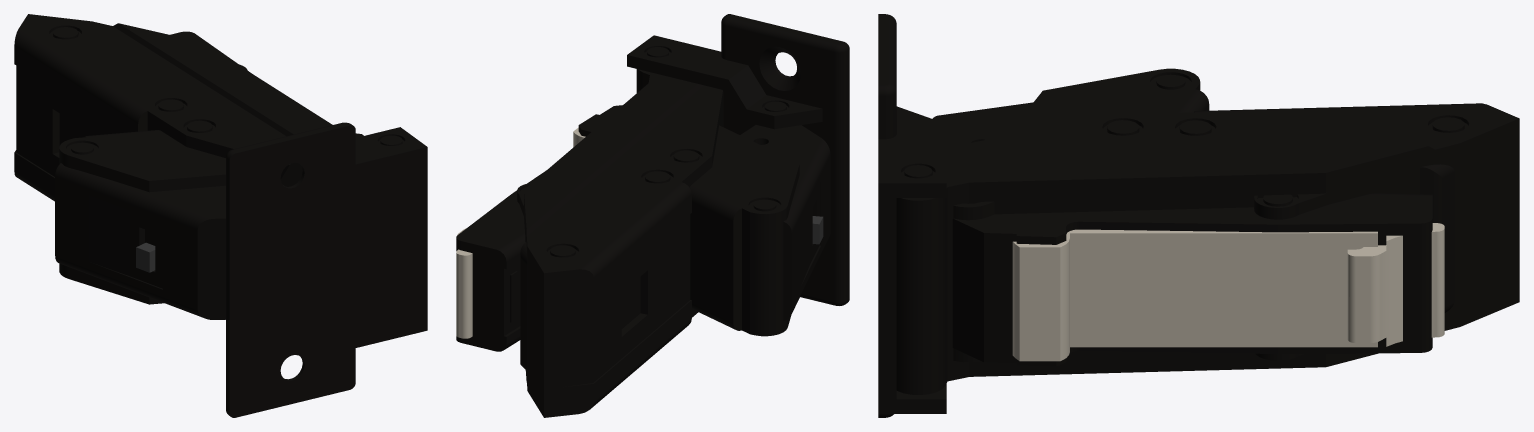
3 renders of one model, left to right at view 1: azimuth 30°, elevation 25°; view 2: azimuth 150°, elevation 25°; view 3: azimuth 270°, elevation 25°, orthographic. The views are drawn at different scales.
Parts seen in each view (by area): view 1: bau0085793888-1, bau0082118369-1, bau0082109884-1, bau0082071794-1; view 2: bau0082118369-1, bau0085793888-1, bau0082071794-1, bau0082065270-1, bau0082109884-1, bau0019426112-1, bau0082072085-1; view 3: bau0082118369-1, bau0019426112-1, bau0082065270-1, bau0085793888-1, bau0082071794-1, bau0082072085-1, bau0082109884-1.
Boxes of the visible parts, x1,y1,x2,y2 form: bau0085793888-1: [226, 122, 427, 417]; bau0082118369-1: [14, 14, 332, 201]; bau0082109884-1: [55, 163, 225, 319]; bau0082071794-1: [59, 130, 225, 304]; bau0082118369-1: [524, 69, 723, 417]; bau0085793888-1: [627, 14, 849, 305]; bau0082071794-1: [689, 125, 799, 336]; bau0082065270-1: [456, 105, 622, 351]; bau0082109884-1: [740, 125, 830, 320]; bau0019426112-1: [456, 127, 585, 338]; bau0082072085-1: [517, 183, 531, 370]; bau0082118369-1: [896, 103, 1519, 394]; bau0019426112-1: [1012, 223, 1444, 361]; bau0082065270-1: [952, 193, 1432, 366]; bau0085793888-1: [878, 14, 946, 417]; bau0082071794-1: [953, 68, 1209, 362]; bau0082072085-1: [1254, 164, 1454, 360]; bau0082109884-1: [932, 102, 1032, 147].
Bounding box in the file's own units: 46.18 × 44 × 77.
